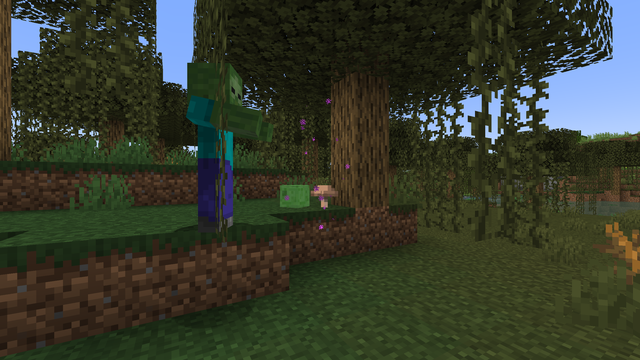slimes: (280, 184, 309, 208)
zombies: (189, 60, 246, 234)
